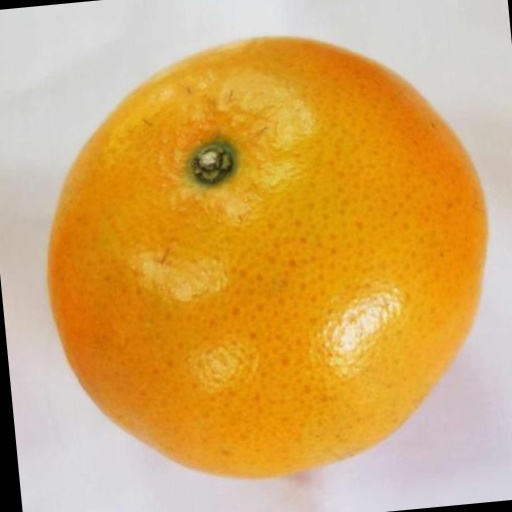fruit: (48, 38, 486, 477)
